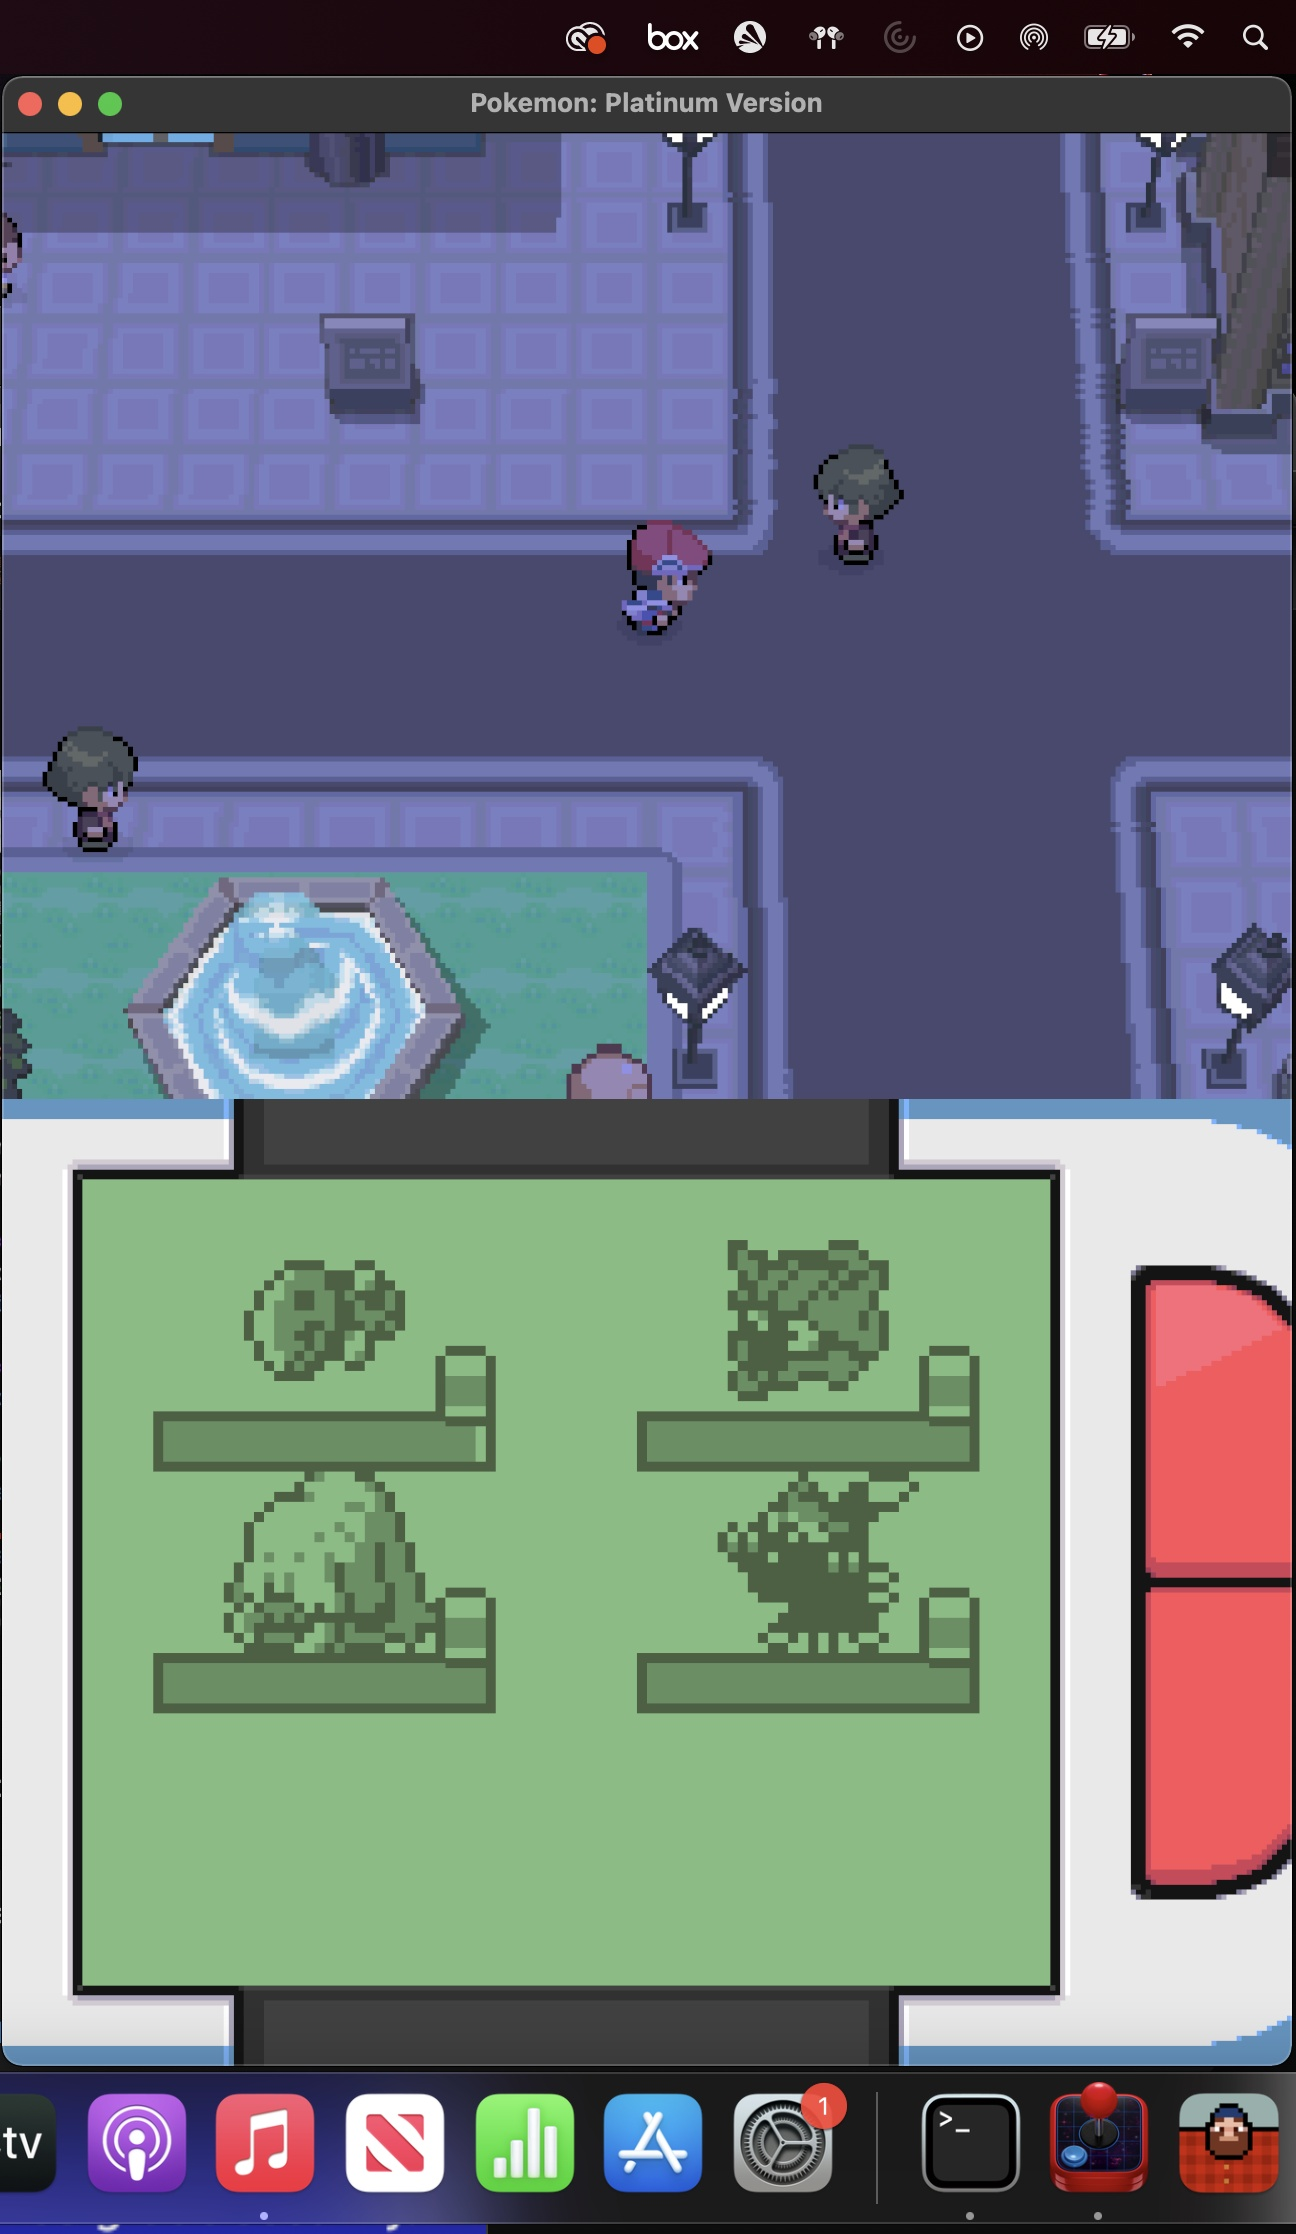player: (614, 509, 699, 643)
